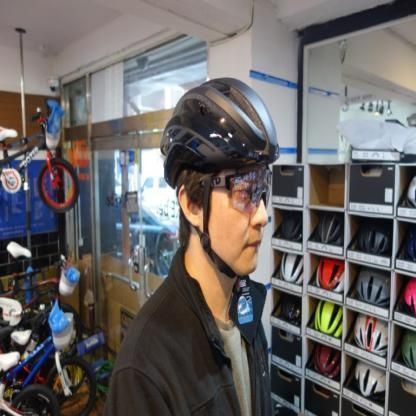no-helmet: (157, 66, 282, 178)
no-vest: (142, 272, 271, 416)
